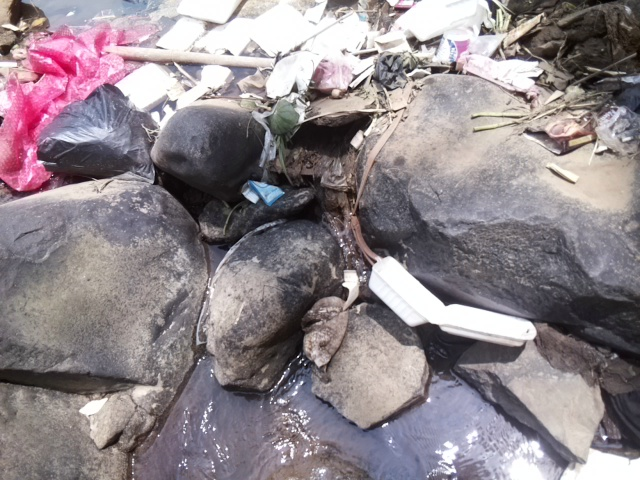Sampah_Plastik: (1, 19, 134, 190), (34, 83, 153, 176), (554, 113, 640, 164), (239, 178, 285, 208)
Sampah_Styrofoam: (365, 256, 541, 355), (176, 2, 366, 57), (388, 1, 499, 50)
